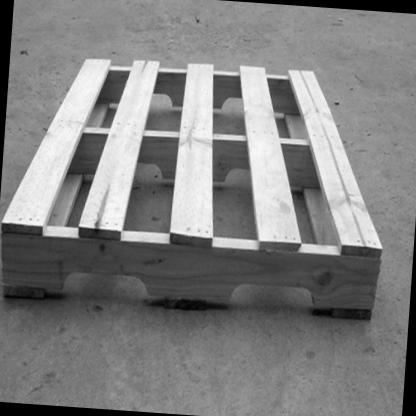BoxFace: (1, 58, 383, 323)
